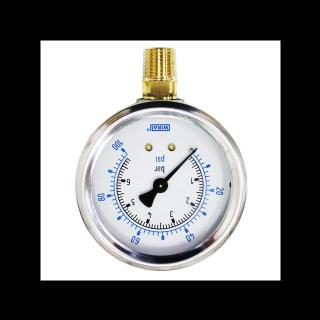gauge: (59, 97, 272, 279), (118, 146, 136, 164), (185, 142, 201, 159), (152, 178, 168, 194), (191, 145, 199, 153)
